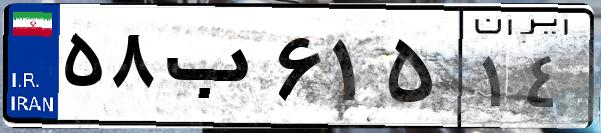1: (330, 28, 385, 110), (475, 38, 525, 113)
4: (525, 38, 570, 115)
5: (385, 28, 445, 110), (57, 26, 110, 100)
6: (270, 28, 330, 110)
8: (110, 28, 158, 98)
ب: (158, 20, 270, 120)
